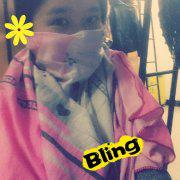OK: (37, 4, 106, 83)
